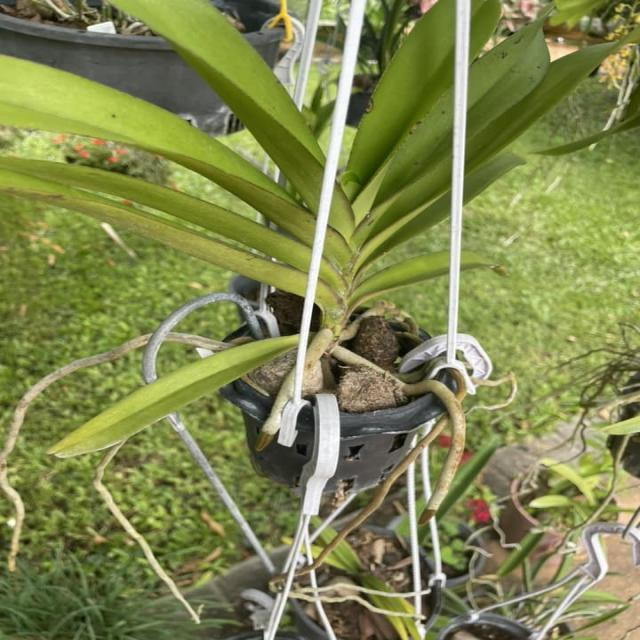leaf: (0, 55, 314, 244), (111, 1, 323, 199), (0, 156, 306, 281), (54, 339, 294, 454), (44, 193, 305, 293), (348, 3, 456, 194), (469, 39, 619, 168), (350, 251, 449, 305), (0, 177, 47, 198)
root: (0, 333, 151, 570), (308, 379, 465, 569), (106, 497, 188, 609), (261, 363, 296, 449), (300, 328, 334, 397), (331, 345, 396, 379), (165, 333, 240, 356)
stem: (323, 231, 364, 343)
